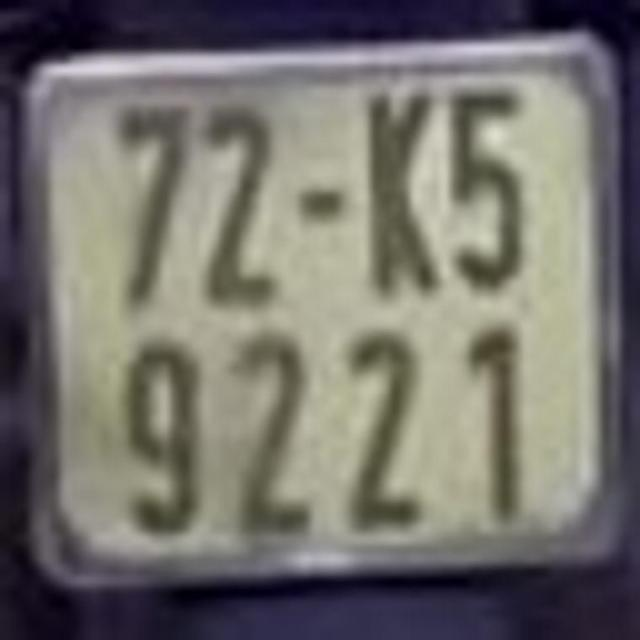1: (470, 324, 528, 518)
2: (228, 326, 318, 532), (202, 105, 281, 304), (341, 331, 419, 528)
5: (449, 88, 526, 291)
7: (115, 110, 197, 300)
9: (122, 336, 207, 539)
K: (366, 96, 441, 296)
